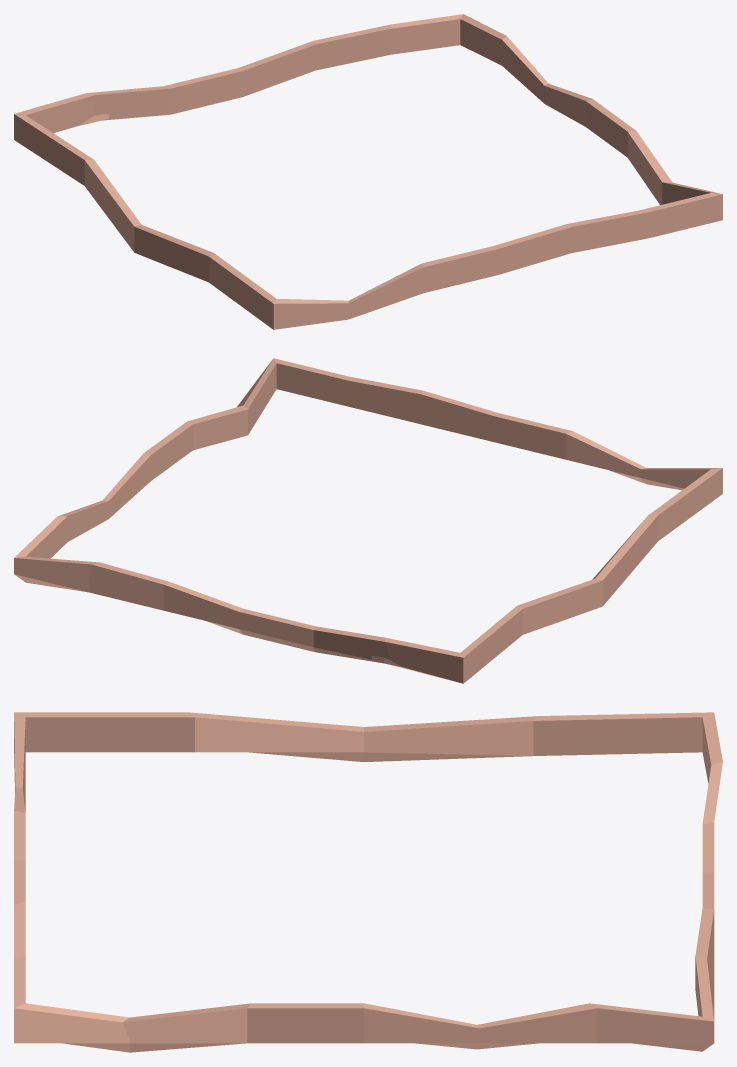
File: GridCerceve.fbx
The picture shows the model from 3 angles, top to bottom: view 1: azimuth 30°, elevation 25°; view 2: azimuth 150°, elevation 25°; view 3: azimuth 270°, elevation 25°; orthographic projection. The views are drawn at different scales.
Visible parts, largest first — view 1: Cube.004; view 2: Cube.004; view 3: Cube.004.
Part boxes in pixels (x1,y1,x2,y2): Cube.004: (14,14,722,329); Cube.004: (14,358,722,683); Cube.004: (14,712,722,1052).
Size of the model in its own units: 204 by 19.38 by 203.
